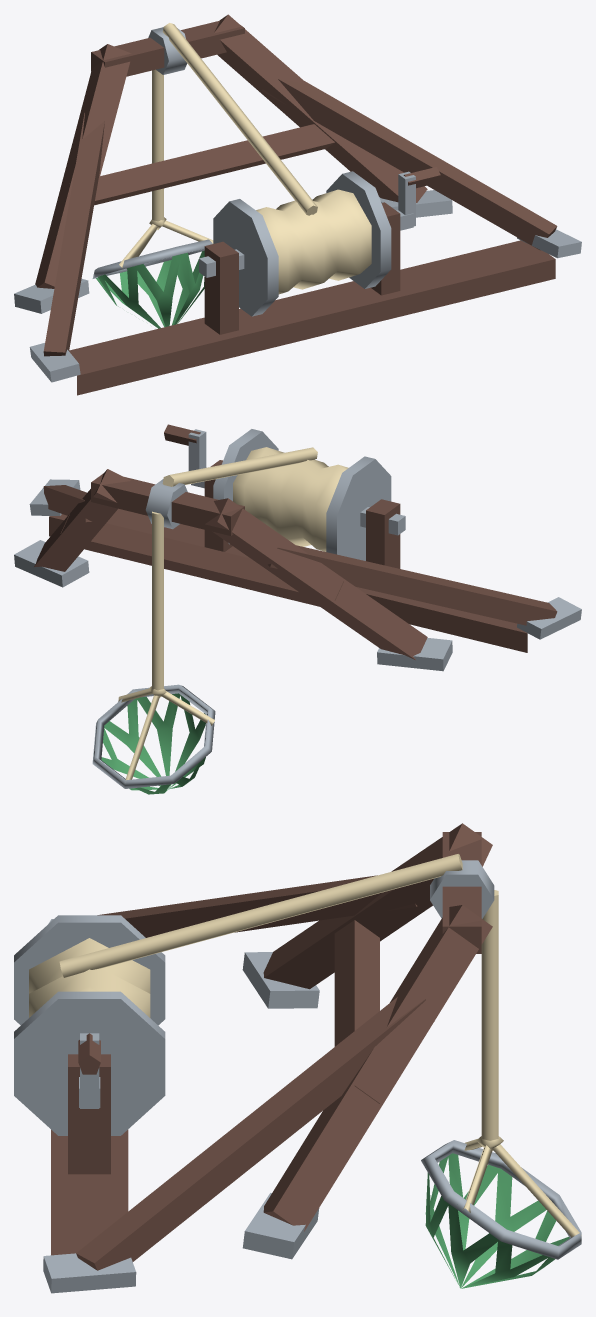
File: Salvage_Net_Winch.glb
3 views of the same model, one above another, from view 1: azimuth 30°, elevation 25°; view 2: azimuth 150°, elevation 25°; view 3: azimuth 270°, elevation 25° (orthographic). The views are drawn at different scales.
Parts seen in each view (by area): view 1: Frame, Spool, Net, Rope; view 2: Frame, Spool, Net, Rope; view 3: Frame, Spool, Net, Rope.
Boxes of the visible parts, x1,y1,x2,y2 form: Frame: [14, 14, 581, 395]; Spool: [199, 167, 440, 316]; Net: [92, 217, 213, 328]; Rope: [152, 69, 163, 221]; Frame: [14, 447, 581, 671]; Spool: [164, 424, 405, 560]; Net: [92, 684, 215, 794]; Rope: [152, 511, 163, 690]; Frame: [43, 823, 494, 1293]; Spool: [14, 915, 165, 1135]; Net: [421, 1136, 581, 1288]; Rope: [481, 890, 498, 1140].
Size of the model in its own units: 3.96 by 2.23 by 2.64.
